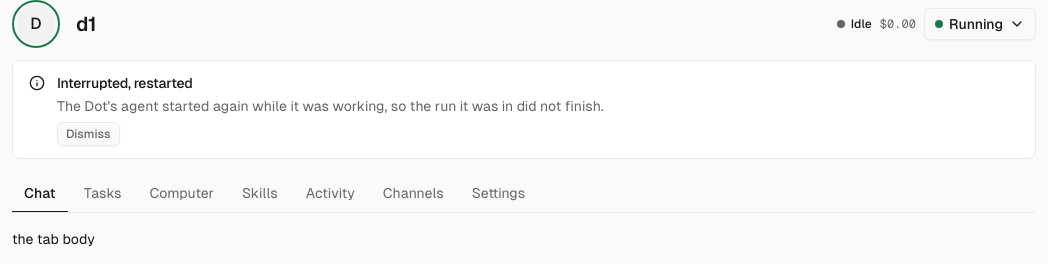
Scenario: the Dot header › says the agent was restarted in the middle of work, until the person dismisses it
Expected: the heading "d1" is shown, [76,13,96,35]
Expected: the text "Interrupted, restarted" is shown, [57,75,193,91]
Click the button "Dismiss": click(88, 134) [57,122,120,146]
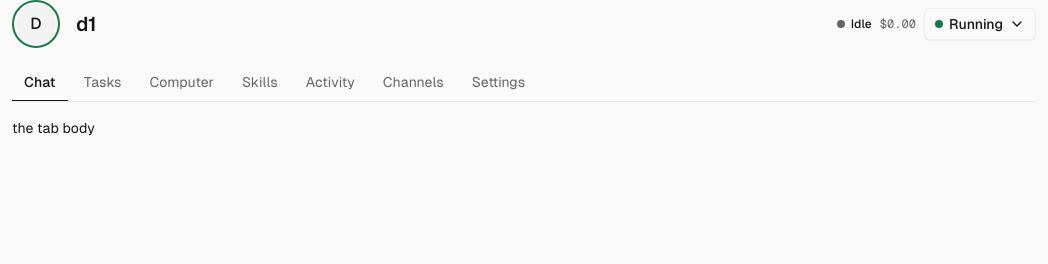
Now the text "Interrupted, restarted" is gone
